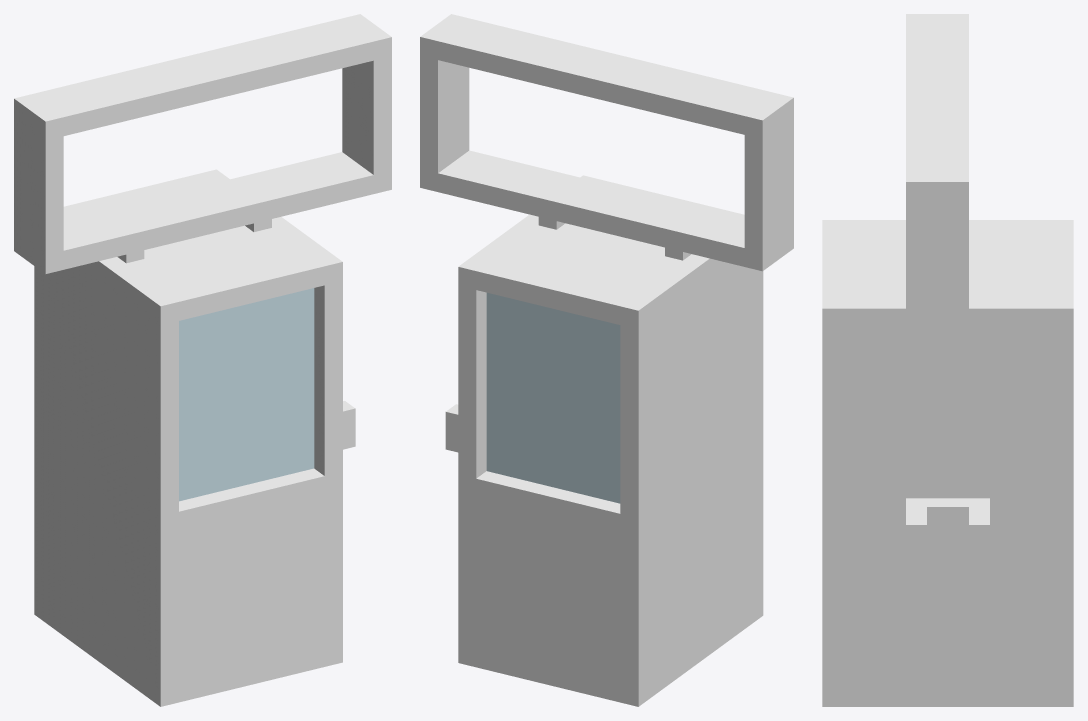
Rendered from Booth.dae.
The picture shows the model from 3 angles, left to right: view 1: azimuth 30°, elevation 25°; view 2: azimuth 150°, elevation 25°; view 3: azimuth 270°, elevation 25°; orthographic projection.
Visible parts, largest first — view 1: Matrix; view 2: Matrix; view 3: Matrix.
Boxes of the visible parts, box(x1,y1,x2,y2) form: Matrix: box(14, 14, 391, 706); Matrix: box(420, 14, 793, 706); Matrix: box(822, 14, 1073, 706).
Size of the model in its own units: 19 by 30 by 12.
1 material, 1 textured.
